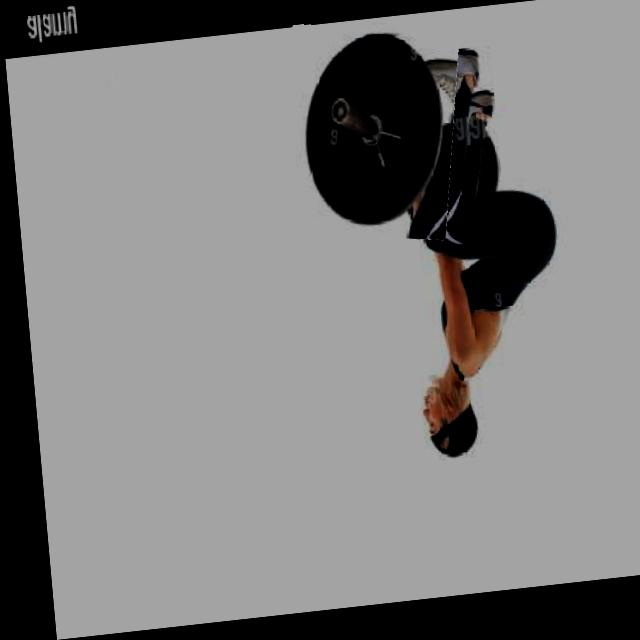barbell: (269, 24, 465, 259)
